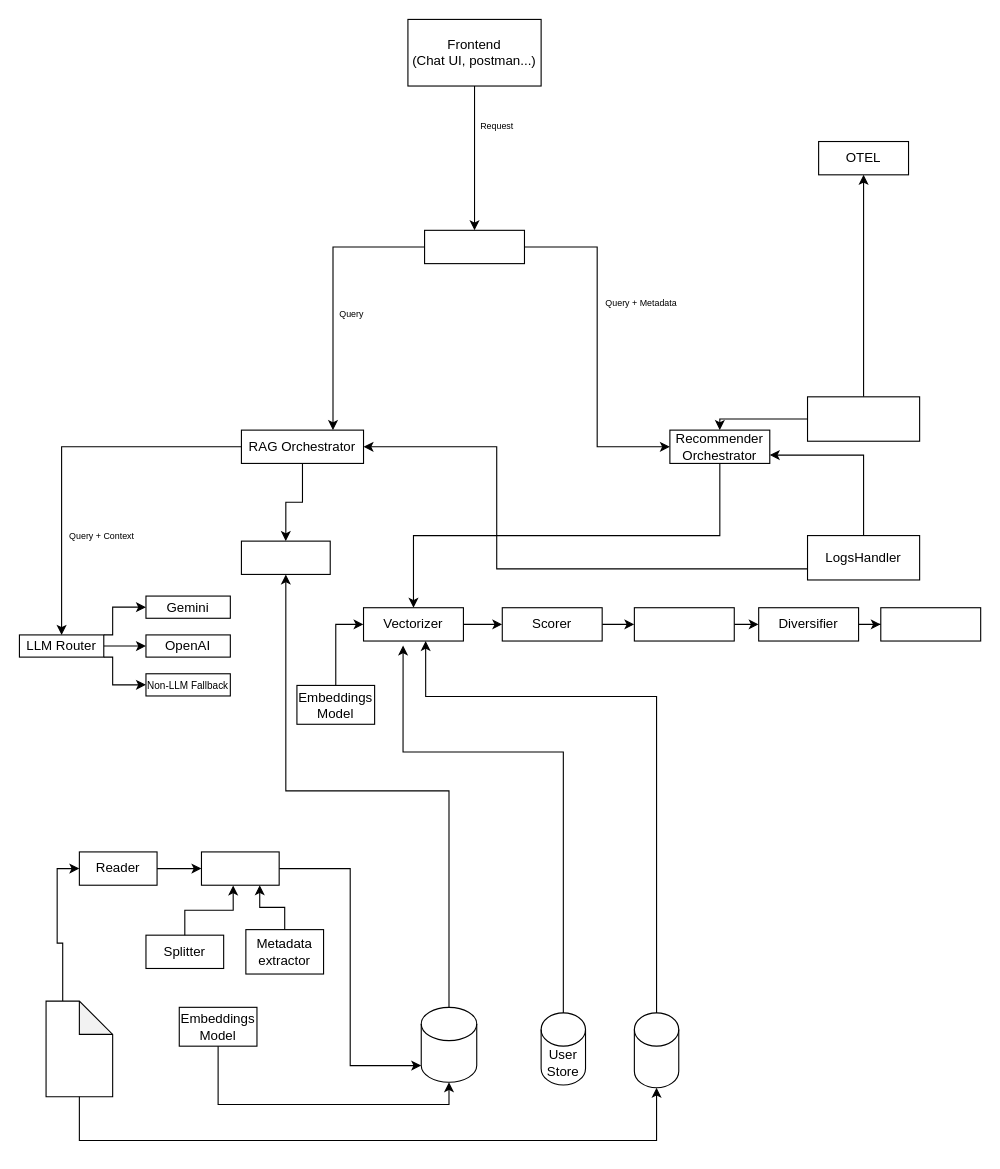
Some shapes in this 1000 by 1169 pixel diagram are drawn without their labels. Each missing label, with the centre of its shape:
"API Layer" goes at point (473, 246).
"Chunker" goes at point (239, 868).
"Documents" goes at point (79, 1048).
"Explainer" goes at point (930, 624).
"Filter" goes at point (683, 624).
"MetricsHandler" goes at point (863, 418).
"Res. Index" goes at point (656, 1050).
"Retriever" goes at point (285, 557).
"Vector Store" goes at point (448, 1044).
